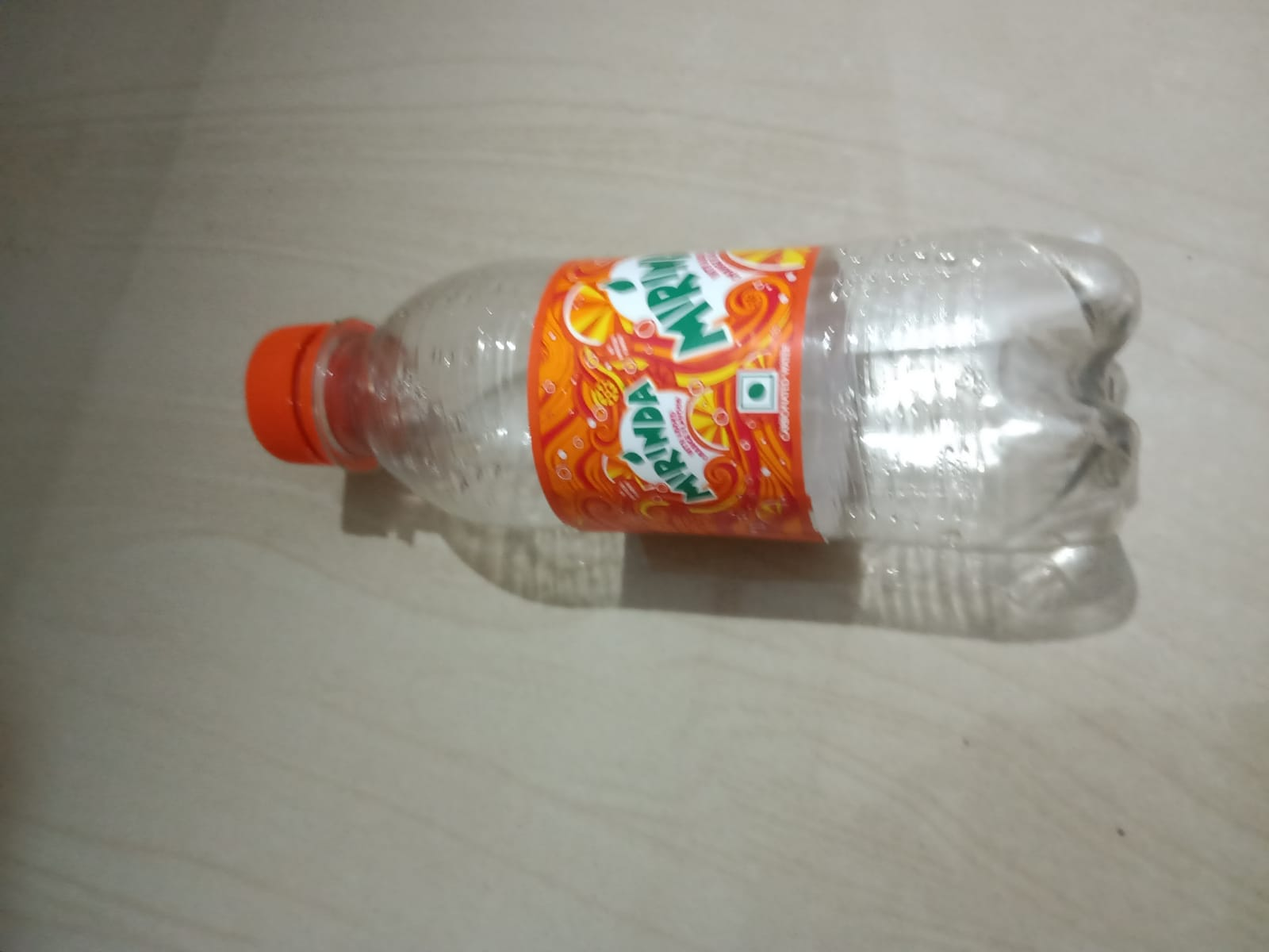plastic: (189, 205, 1269, 586)
